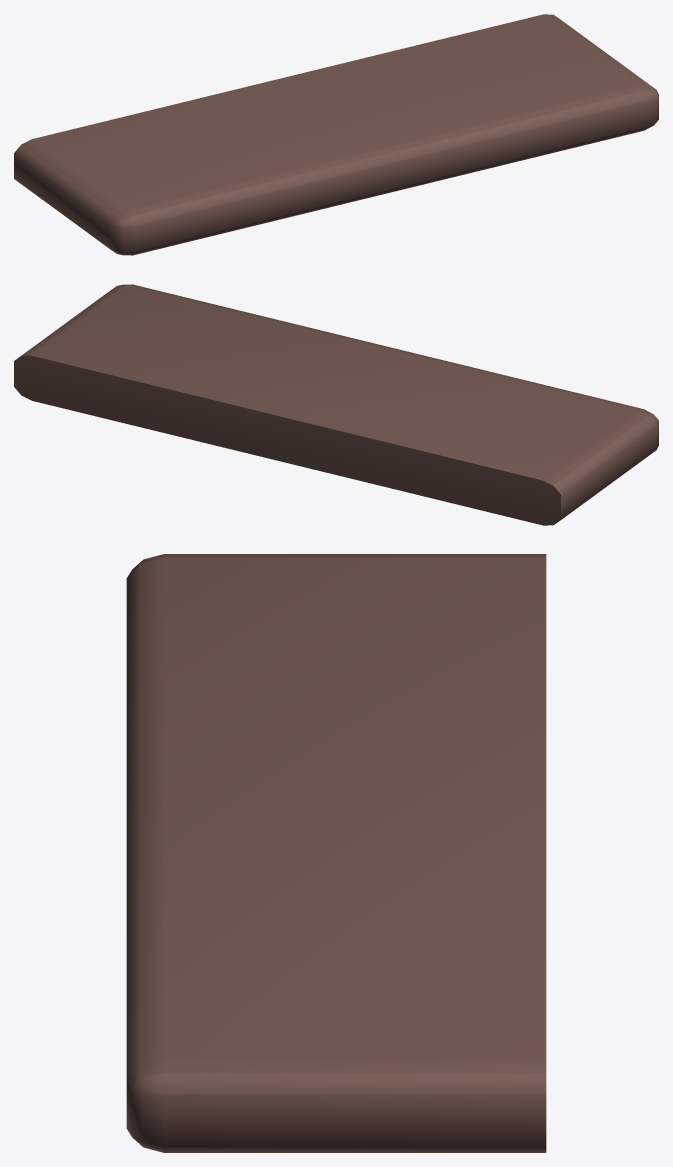
Rendered from Bath_Prop_22.glb.
The picture shows the model from 3 angles, top to bottom: view 1: azimuth 30°, elevation 25°; view 2: azimuth 150°, elevation 25°; view 3: azimuth 270°, elevation 25°; orthographic projection. The views are drawn at different scales.
Parts seen in each view (by area): view 1: Bath_Prop_22; view 2: Bath_Prop_22; view 3: Bath_Prop_22.
Boxes of the visible parts, left/top/right/bottom form: Bath_Prop_22: left=14, top=14, right=658, bottom=255; Bath_Prop_22: left=14, top=284, right=658, bottom=525; Bath_Prop_22: left=126, top=554, right=546, bottom=1152.
Size of the model in its own units: 0.4455 by 0.035 by 0.148.
1 material, 1 textured.
